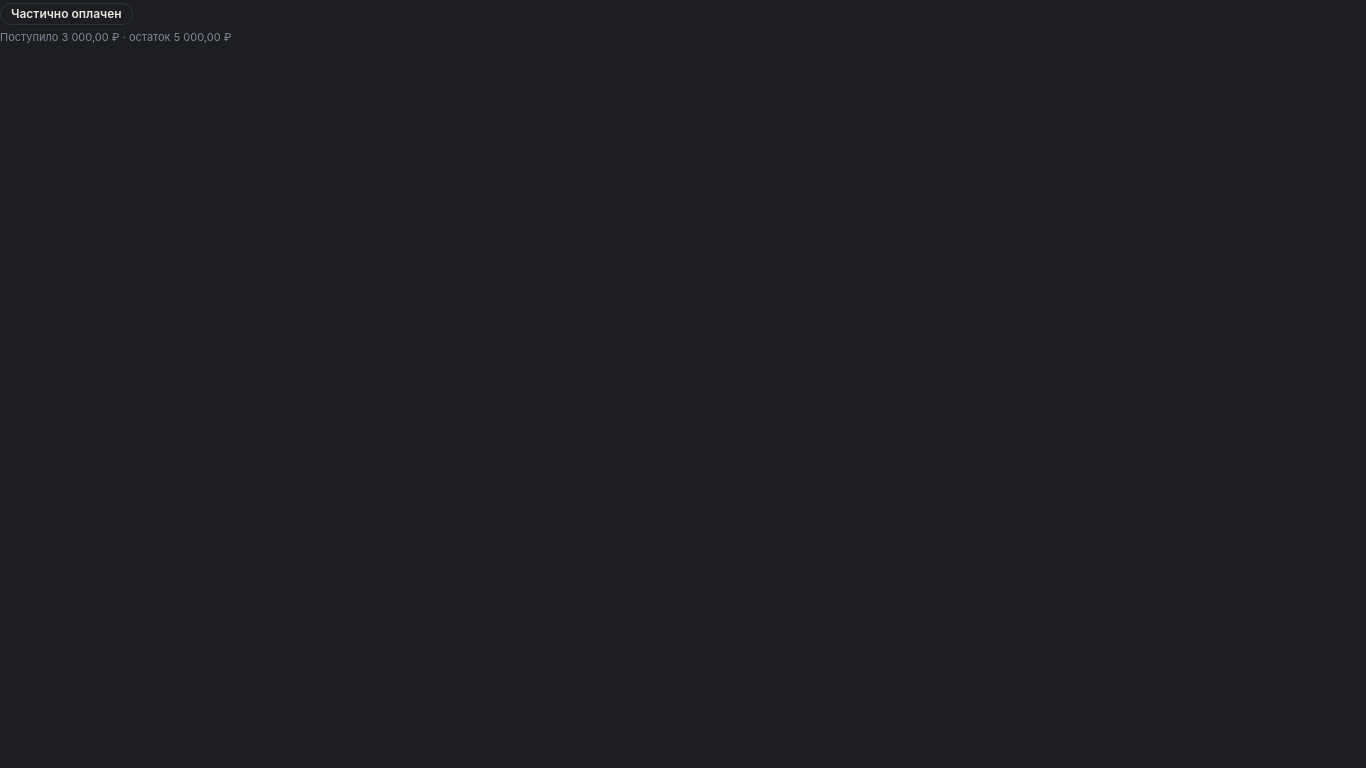
Test: payment details CRM › selects a specific invoice for details and displays auditable source and date
Click the button with aria-label "Оплата: Договор №20". click: (66, 12)
box: [0,0,133,25]
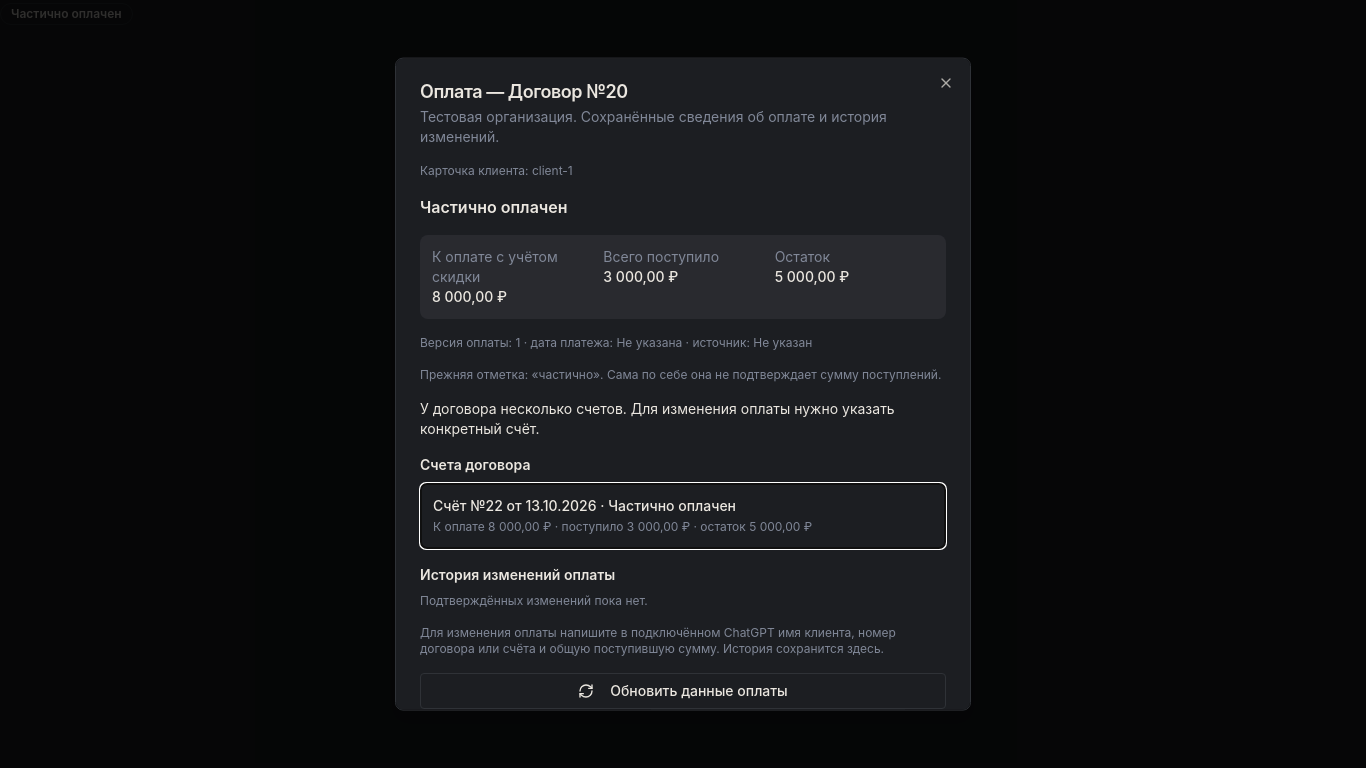
Click the button "Счёт №22". click: (683, 516)
box: [420,483,946,549]
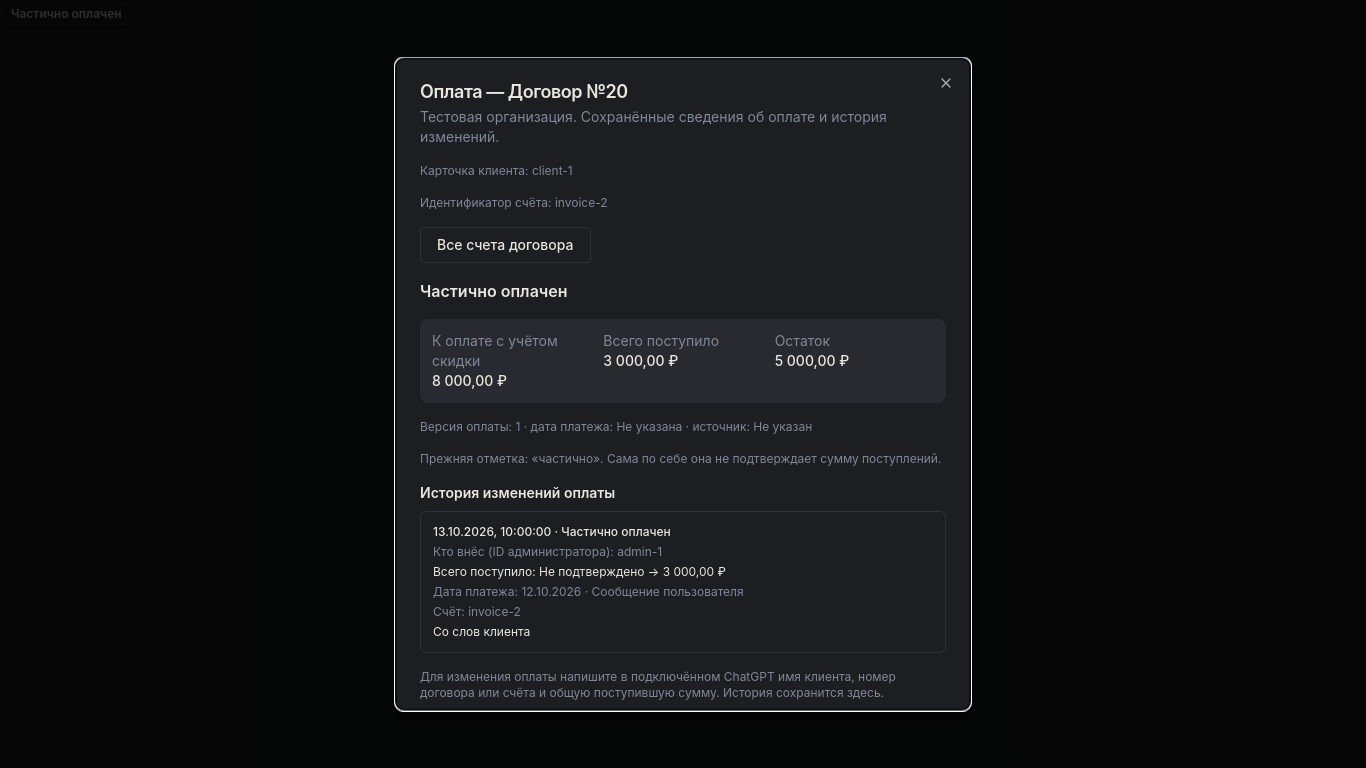
Expected: the text "Дата платежа: 12.10.2026 · Сообщение пользователя" is shown, [433,584,744,599]
Expected: the text "Со слов клиента" is shown, [433,624,530,639]
Expected: the text "Кто внёс (ID администратора): admin-1" is shown, [433,544,662,559]
